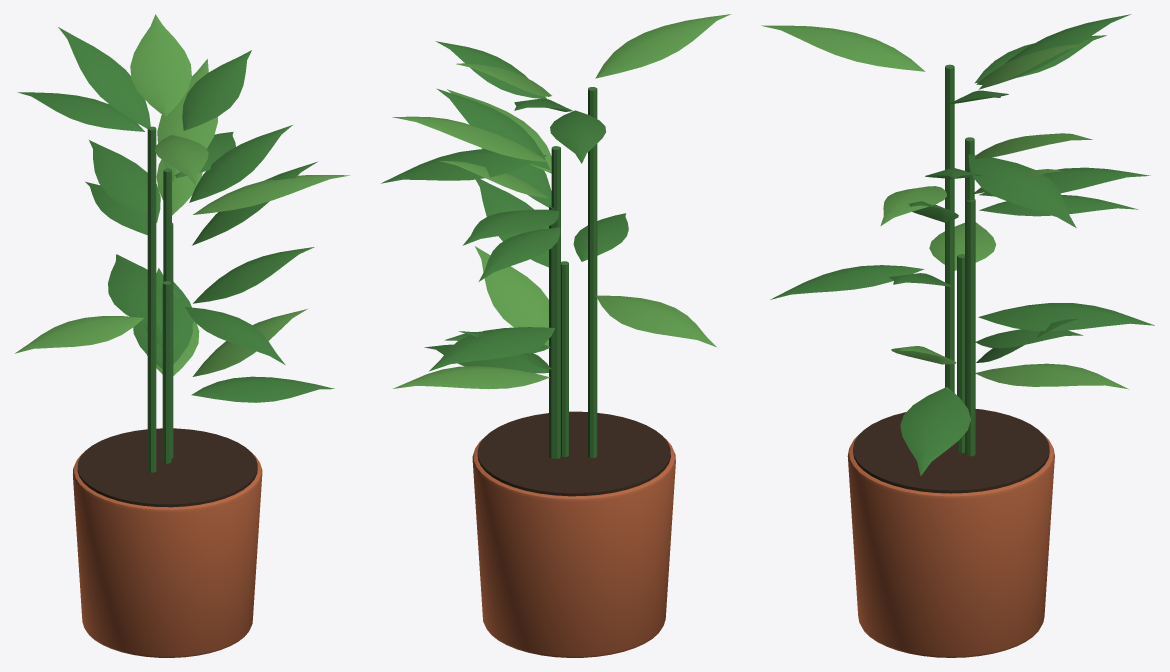
File: plant_big.glb
3 renders of one model, left to right at view 1: azimuth 30°, elevation 25°; view 2: azimuth 150°, elevation 25°; view 3: azimuth 270°, elevation 25°, orthographic. The views are drawn at different scales.
Parts seen in each view (by area): view 1: cyl, cyl.001, leaf.012, cyl.005, leaf.002, leaf.020, leaf.019, leaf.008, leaf.010, leaf.009, leaf.004, leaf.016 (+16 smaller); view 2: cyl, cyl.001, cyl.005, leaf.006, leaf.015, leaf.009, leaf.004, leaf.014, cyl.004, leaf.018, leaf.008, leaf.021 (+13 smaller); view 3: cyl, cyl.001, leaf.010, leaf.014, leaf.004, cyl.005, leaf.006, cyl.003, leaf.018, leaf.011, leaf.002, leaf.019 (+10 smaller).
Boxes of the visible parts, x1,y1,x2,y2 form: cyl: (73,452,262,657); cyl.001: (77,428,257,507); leaf.012: (130,14,191,116); cyl.005: (147,126,156,472); leaf.002: (58,27,150,128); leaf.020: (182,50,251,130); leaf.019: (89,140,160,222); leaf.008: (189,125,292,202); leaf.010: (191,376,334,402); leaf.009: (15,316,143,353); leaf.004: (108,254,174,332); leaf.016: (17,92,144,131); cyl: (472,438,675,657); cyl.001: (477,411,670,496); cyl.005: (588,87,597,458); leaf.006: (595,14,731,78); leaf.015: (475,246,548,346); leaf.009: (596,295,716,347); leaf.004: (429,327,554,371); leaf.014: (381,149,546,183); cyl.004: (551,146,560,458); leaf.018: (393,366,549,389); leaf.008: (436,88,550,169); leaf.021: (392,116,547,162); cyl: (847,433,1054,657); cyl.001: (853,409,1049,493); leaf.010: (900,387,970,475); leaf.014: (968,154,1076,227); leaf.004: (978,303,1154,331); cyl.005: (945,64,954,392); leaf.006: (761,25,925,71); cyl.003: (965,199,975,456); leaf.018: (975,363,1128,389); leaf.011: (770,265,924,299); leaf.002: (979,14,1131,89); leaf.019: (979,167,1150,196).
Bounding box in the file's own units: 68.6 × 122 × 72.37.
